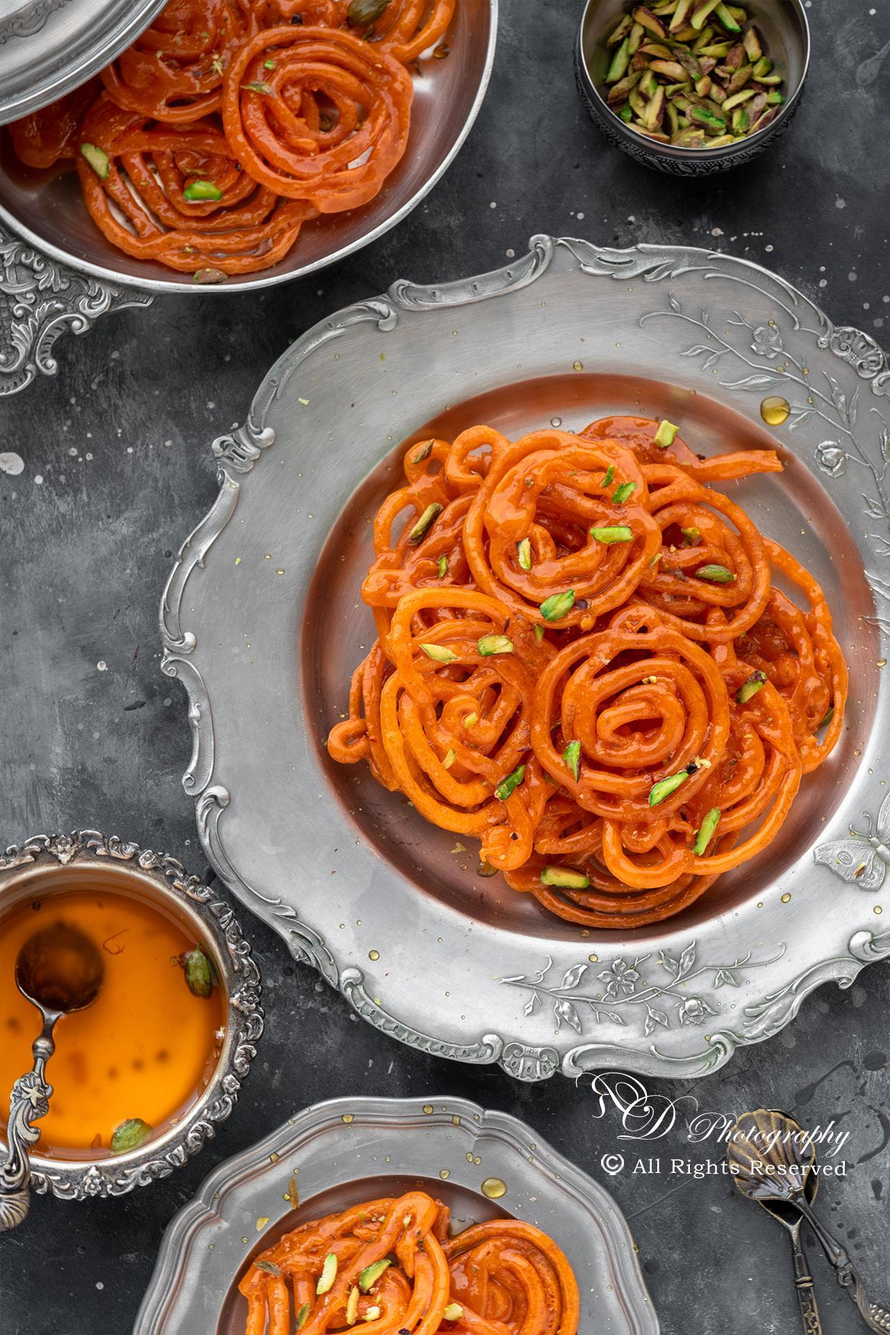jalebi: (330, 426, 830, 914), (42, 0, 469, 287), (229, 1180, 646, 1335)
